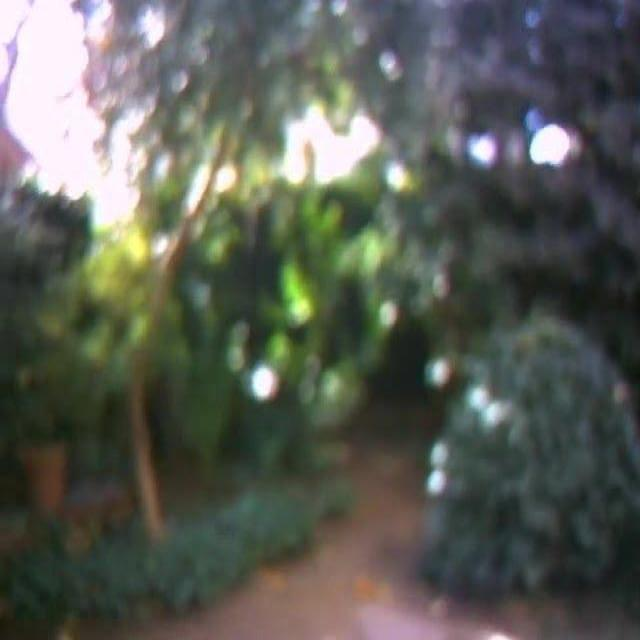other: (11, 8, 598, 198)
